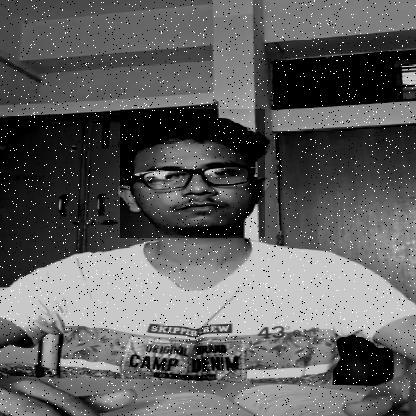Normal: (120, 109, 265, 238)
